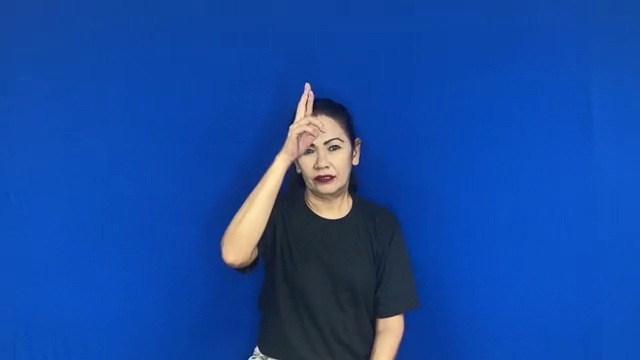chicken: (274, 75, 330, 166)
